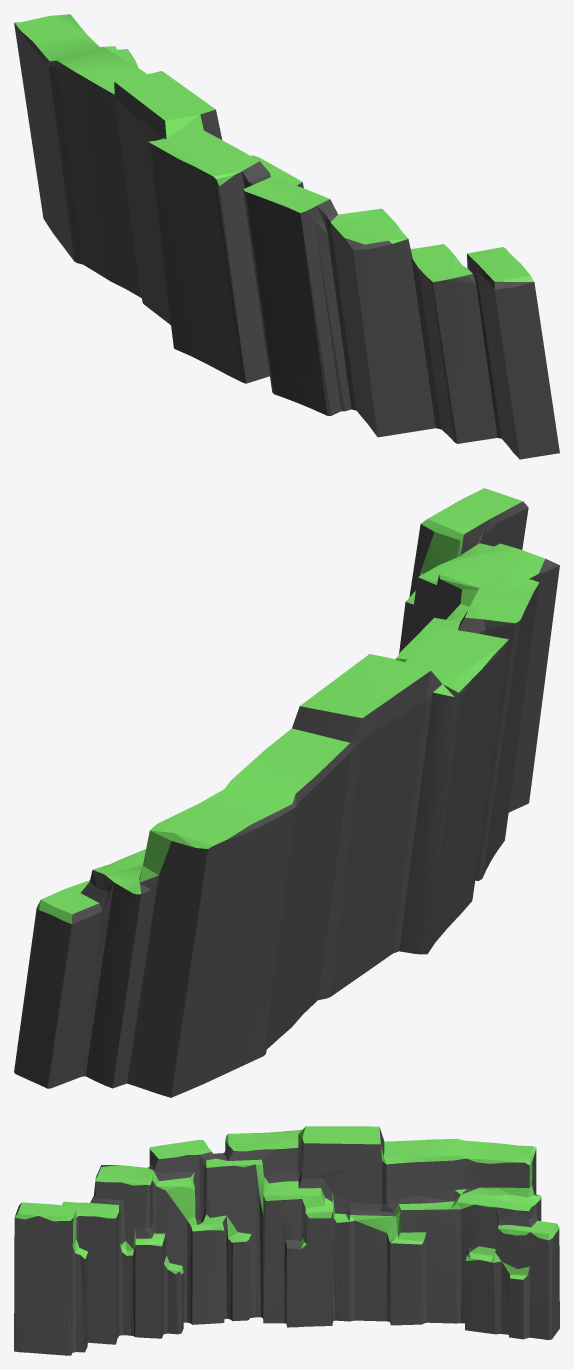
File: cliff.fbx
The picture shows the model from 3 angles, top to bottom: view 1: azimuth 30°, elevation 25°; view 2: azimuth 150°, elevation 25°; view 3: azimuth 270°, elevation 25°; orthographic projection. The views are drawn at different scales.
Parts seen in each view (by area): view 1: cliff; view 2: cliff; view 3: cliff.
Boxes of the visible parts, <box> form: cliff: <box>14,14,559,459</box>; cliff: <box>14,488,559,1097</box>; cliff: <box>14,1126,559,1355</box>.
Bounding box in the file's own units: 863 × 852 × 2624.
